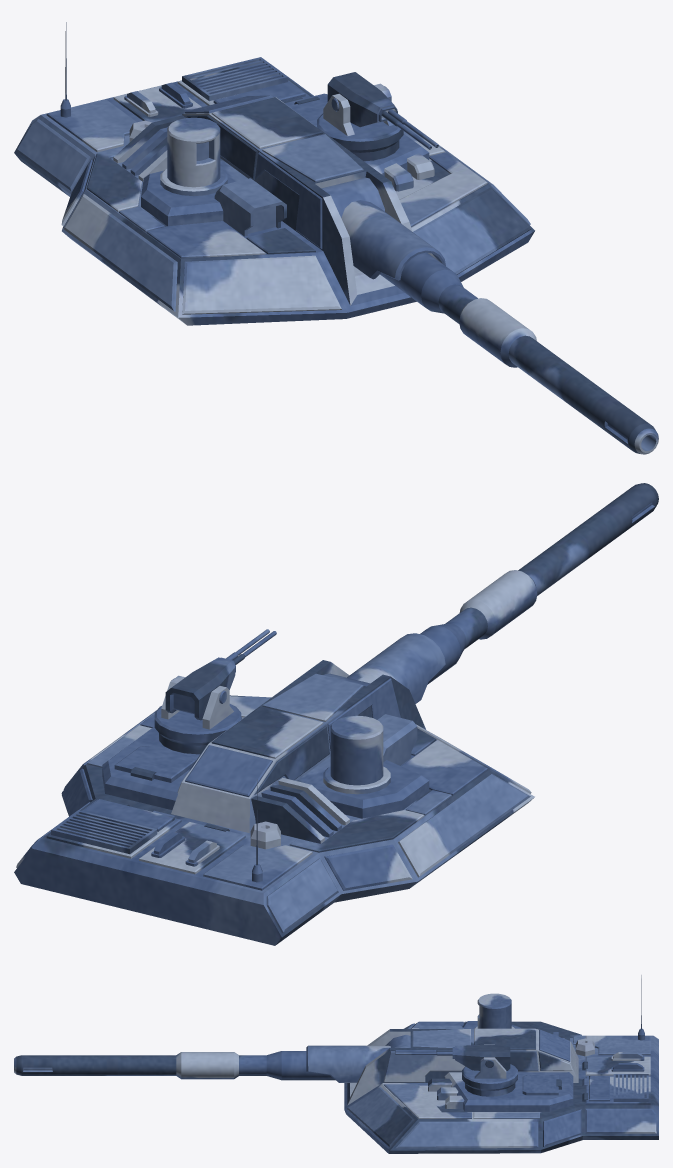
The model's file is EnemyTankTurret.fbx.
The picture shows the model from 3 angles, top to bottom: view 1: azimuth 30°, elevation 25°; view 2: azimuth 150°, elevation 25°; view 3: azimuth 270°, elevation 25°; orthographic projection. The views are drawn at different scales.
Visible parts, largest first — view 1: TankTop; view 2: TankTop; view 3: TankTop.
Part boxes in pixels (left/top/right/bottom): TankTop: left=14, top=22, right=658, bottom=454; TankTop: left=14, top=483, right=658, bottom=945; TankTop: left=14, top=975, right=658, bottom=1153.
Bounding box in the file's own units: 0.6521 × 0.2786 × 1.58.
Materials: 1 (1 with a texture image).
